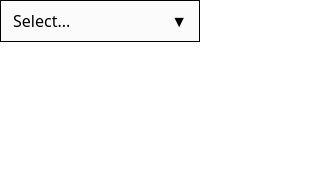
Test case: Select 组件 › 应该正确显示箭头图标
Click the dropdown at x=100, y=21, box [0, 0, 200, 42]
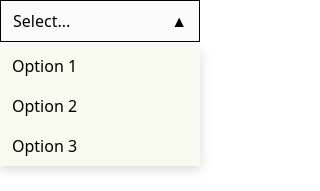
expect the dropdown shows "▲": met, box [0, 0, 200, 42]
